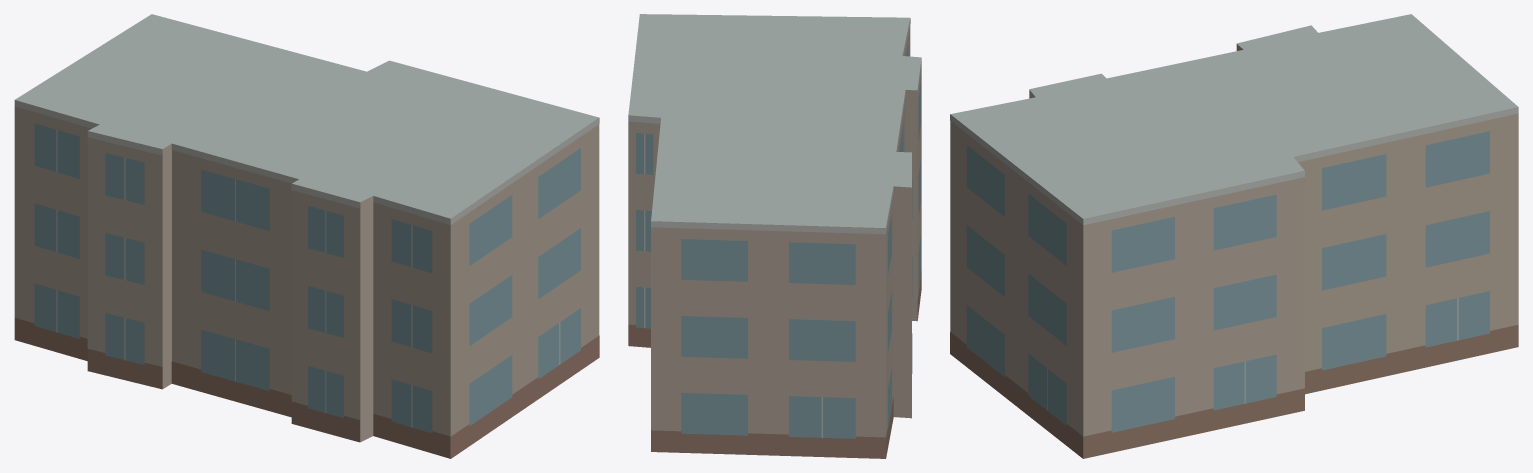
The model's file is survey-upis-32688390.glb.
The picture shows the model from 3 angles, left to right: view 1: azimuth 30°, elevation 25°; view 2: azimuth 150°, elevation 25°; view 3: azimuth 270°, elevation 25°; orthographic projection. The views are drawn at different scales.
Visible parts, largest first — view 1: survey-upis-32688390.tmp; view 2: survey-upis-32688390.tmp; view 3: survey-upis-32688390.tmp.
Part boxes in pixels (x1,y1,x2,y2): survey-upis-32688390.tmp: (14,14,599,458); survey-upis-32688390.tmp: (628,14,921,458); survey-upis-32688390.tmp: (950,14,1518,458).
Bounding box in the file's own units: 16.77 × 9.15 × 19.66.
